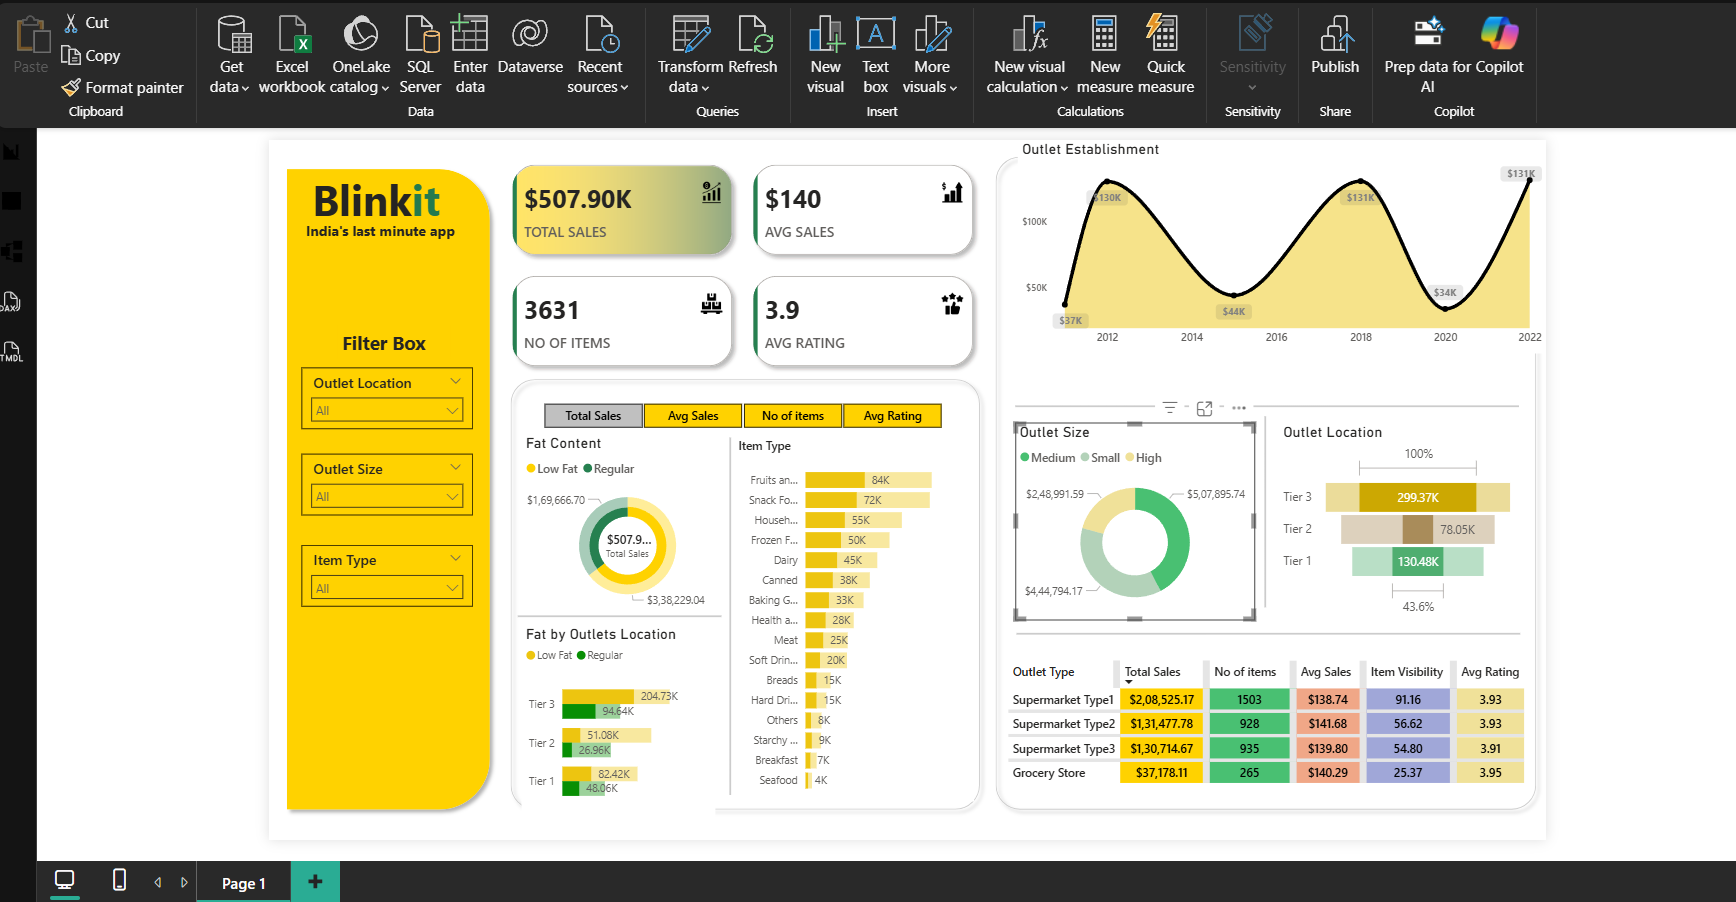

What the dashboard file says about the page in this screenshot:
{"tool":"powerbi","page":{"name":"Page 1","canvas":[1460,800],"ordinal":0},"visuals":[{"type":"shape","box":[11.4,24.3,250,750],"z":0},{"type":"textbox","box":[44.3,30,162.9,92.9],"z":1000},{"type":"textbox","box":[37.1,87.1,195.7,45.7],"z":2000},{"type":"cardVisual","fields":{"Data":["BlinkIT Grocery Data.Total Sales","BlinkIT Grocery Data.Avg Sales","BlinkIT Grocery Data.Total items Sold","BlinkIT Grocery Data.Avg Rating"]},"box":[261.4,11.4,560,264.3],"z":3000},{"type":"shape","box":[267.1,264.3,554.3,510],"z":4000},{"type":"donutChart","title":"Fat Content","fields":{"Y":["BlinkIT Grocery Data.Total Sales"],"Category":["BlinkIT Grocery Data.Item Fat Content"]},"box":[288.6,335.7,242.9,207.1],"z":5000},{"type":"slicer","fields":{"Values":["Metrics.Metrics"]},"box":[288.6,294.3,504.3,41.4],"z":6000},{"type":"cardVisual","fields":{"Data":["BlinkIT Grocery Data.Total Sales"]},"box":[365.7,424.3,88.6,77.1],"z":7000},{"type":"clusteredBarChart","title":"Fat by Outlets Location","fields":{"Y":["BlinkIT Grocery Data.Total Sales"],"Category":["BlinkIT Grocery Data.Outlet Location Type"],"Series":["BlinkIT Grocery Data.Item Fat Content"]},"box":[288.6,554.3,221.4,220],"z":8000},{"type":"shape","box":[284.3,534.3,232.9,20],"z":9000},{"type":"shape","box":[522.9,340,8.6,408.6],"z":10000},{"type":"barChart","title":"Item Type","fields":{"Y":["BlinkIT Grocery Data.Total Sales"],"Category":["BlinkIT Grocery Data.Item Type"]},"box":[531.4,340,274.3,415.7],"z":11000},{"type":"shape","box":[821.4,10,635.7,764.3],"z":12000},{"type":"lineChart","title":"Outlet Establishment","fields":{"Category":["BlinkIT Grocery Data.Outlet Establishment Year"],"Y":["BlinkIT Grocery Data.Total Sales"]},"box":[855.7,0,604.3,244.3],"z":13000},{"type":"shape","box":[852.9,294.3,575.7,20],"z":14000},{"type":"donutChart","title":"Outlet Size","fields":{"Y":["BlinkIT Grocery Data.Total Sales"],"Category":["BlinkIT Grocery Data.Outlet Size"]},"box":[852.9,322.9,274.3,225.7],"z":15000},{"type":"shape","box":[1135.7,315.7,5.7,218.6],"z":16000},{"type":"funnel","title":"Outlet Location","fields":{"Y":["BlinkIT Grocery Data.Total Sales"],"Category":["BlinkIT Grocery Data.Outlet Location Type"]},"box":[1154.3,322.9,274.3,225.7],"z":17000},{"type":"shape","box":[854.3,554.3,575.7,20],"z":18000},{"type":"pivotTable","fields":{"Rows":["BlinkIT Grocery Data.Outlet Type"],"Values":["BlinkIT Grocery Data.Total Sales","BlinkIT Grocery Data.No of items","BlinkIT Grocery Data.Avg Sales","Sum(BlinkIT Grocery Data.Item Visibility)","BlinkIT Grocery Data.Avg Rating"]},"box":[840,590,604.3,150],"z":19000},{"type":"slicer","fields":{"Values":["BlinkIT Grocery Data.Outlet Location Type"]},"box":[37.1,260,195.7,70],"z":19001},{"type":"slicer","fields":{"Values":["BlinkIT Grocery Data.Outlet Size"]},"box":[37.1,358.6,195.7,70],"z":19002},{"type":"slicer","fields":{"Values":["BlinkIT Grocery Data.Item Type"]},"box":[37.1,462.9,195.7,70],"z":19003},{"type":"textbox","box":[78.6,211.4,128.6,38.6],"z":19004}]}

Visuals, with their boxes on the page's 1460x800 design canvas (x1, y1, x2, y2). These are canvas units, not pixel positions in the 1736x902 screenshot, which may show the page scaled, cropped or inside an application window:
shape: x1=11, y1=24, x2=261, y2=774
textbox: x1=44, y1=30, x2=207, y2=123
textbox: x1=37, y1=87, x2=233, y2=133
cardVisual - BlinkIT Grocery Data.Total Sales x BlinkIT Grocery Data.Avg Sales: x1=261, y1=11, x2=821, y2=276
shape: x1=267, y1=264, x2=821, y2=774
"Fat Content" donutChart: x1=289, y1=336, x2=532, y2=543
slicer - Metrics.Metrics: x1=289, y1=294, x2=793, y2=336
cardVisual - BlinkIT Grocery Data.Total Sales: x1=366, y1=424, x2=454, y2=501
"Fat by Outlets Location" clusteredBarChart: x1=289, y1=554, x2=510, y2=774
shape: x1=284, y1=534, x2=517, y2=554
shape: x1=523, y1=340, x2=532, y2=749
"Item Type" barChart: x1=531, y1=340, x2=806, y2=756
shape: x1=821, y1=10, x2=1457, y2=774
"Outlet Establishment" lineChart: x1=856, y1=0, x2=1460, y2=244
shape: x1=853, y1=294, x2=1429, y2=314
"Outlet Size" donutChart: x1=853, y1=323, x2=1127, y2=549
shape: x1=1136, y1=316, x2=1141, y2=534
"Outlet Location" funnel: x1=1154, y1=323, x2=1429, y2=549
shape: x1=854, y1=554, x2=1430, y2=574
pivotTable - BlinkIT Grocery Data.Outlet Type x BlinkIT Grocery Data.Total Sales: x1=840, y1=590, x2=1444, y2=740
slicer - BlinkIT Grocery Data.Outlet Location Type: x1=37, y1=260, x2=233, y2=330
slicer - BlinkIT Grocery Data.Outlet Size: x1=37, y1=359, x2=233, y2=429
slicer - BlinkIT Grocery Data.Item Type: x1=37, y1=463, x2=233, y2=533
textbox: x1=79, y1=211, x2=207, y2=250
